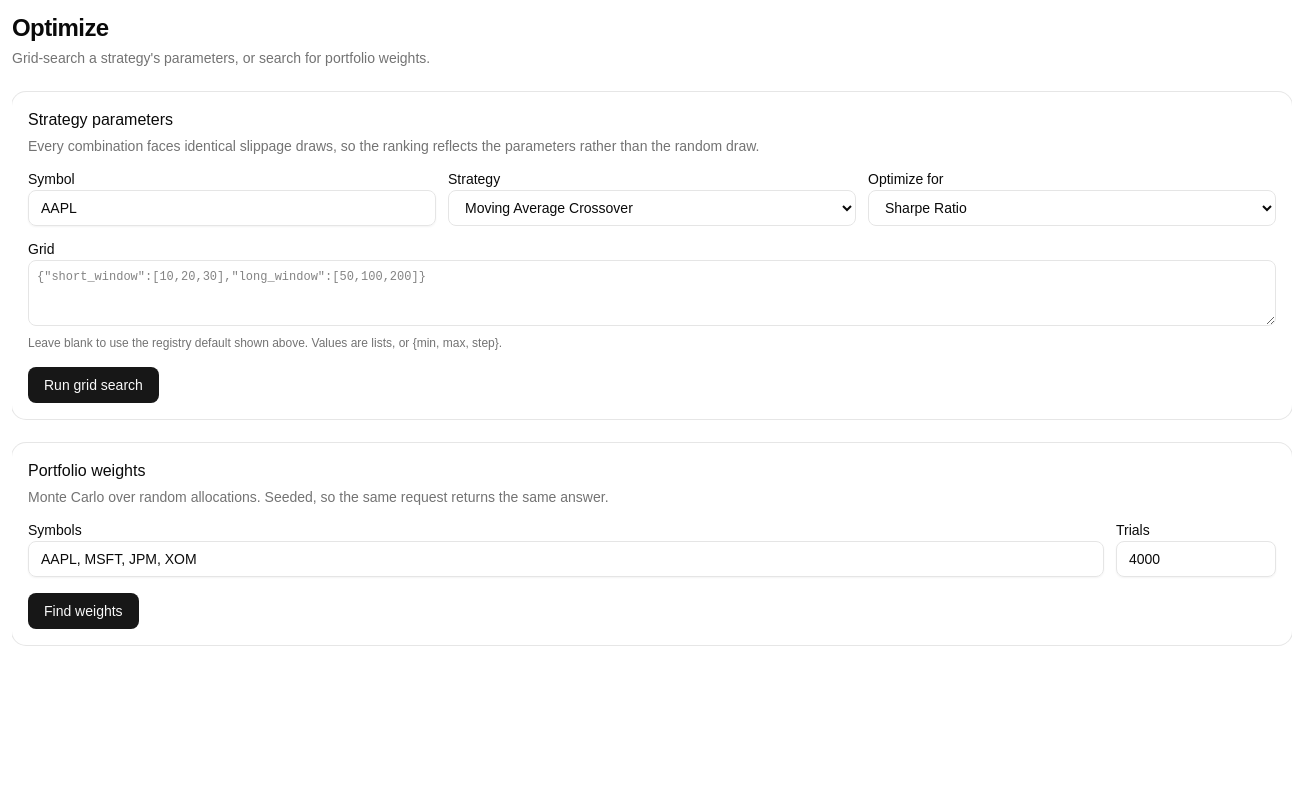
Test: OptimizePage — grid search › shows the out-of-sample walk-forward beside the in-sample ranking
The width and height of the screenshot is (1292, 812).
Click the button "Run grid search".
click(93, 385)  # box left=28, top=367, right=159, bottom=403
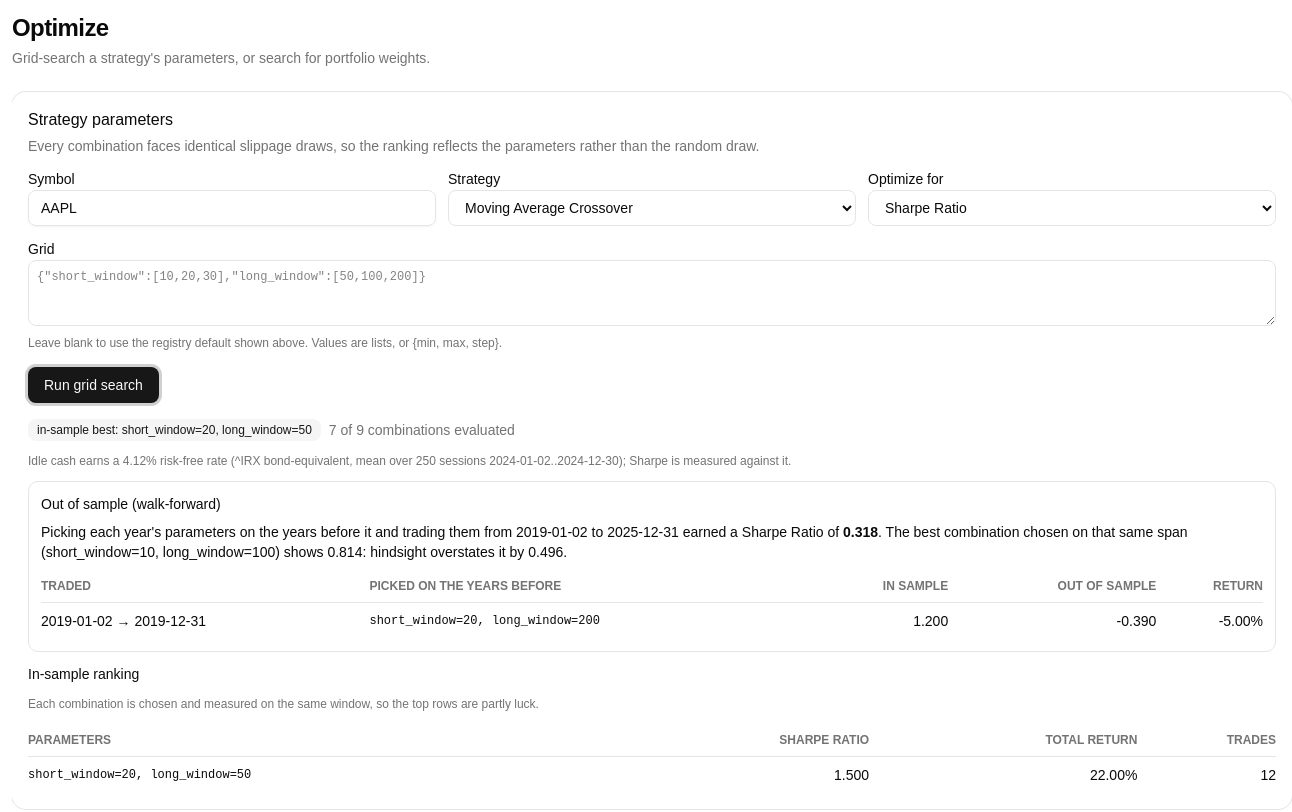
expect the heading "Out of sample (walk-forward)" is shown: met, box left=41, top=496, right=221, bottom=512
expect the text "0.318" is shown: met, box left=843, top=524, right=878, bottom=540
expect the text "short_window=20, long_window=200" is shown: met, box left=370, top=602, right=817, bottom=639
